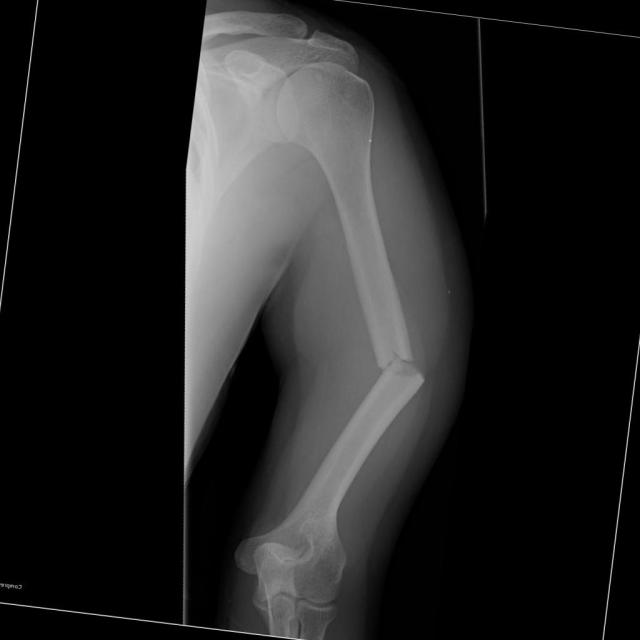Transverse: (368, 330, 447, 415)
